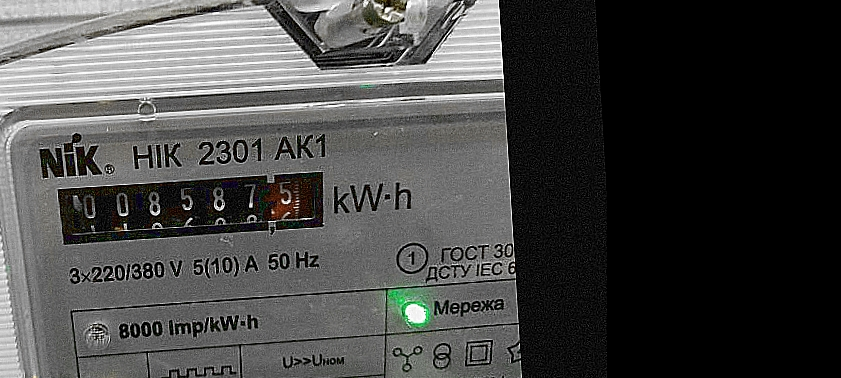0: (79, 190, 97, 220), (113, 189, 131, 218)
5: (276, 178, 295, 208), (177, 184, 195, 213)
7: (240, 179, 259, 210)
8: (208, 182, 227, 213), (145, 188, 162, 217)
screen: (38, 155, 344, 256)
